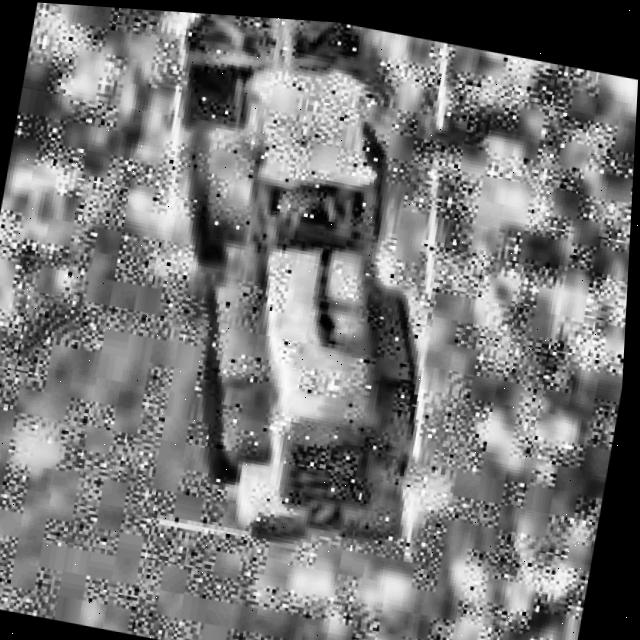buldozerpayloadergrader: (100, 6, 496, 576)
